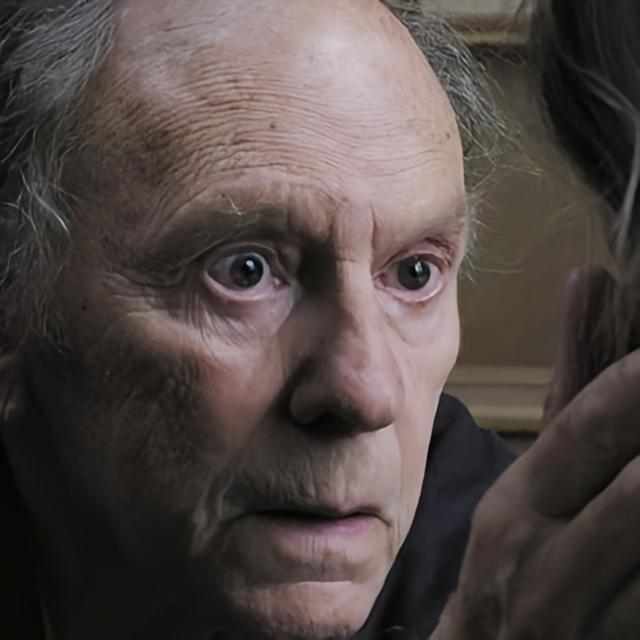fear: (49, 6, 470, 640)
